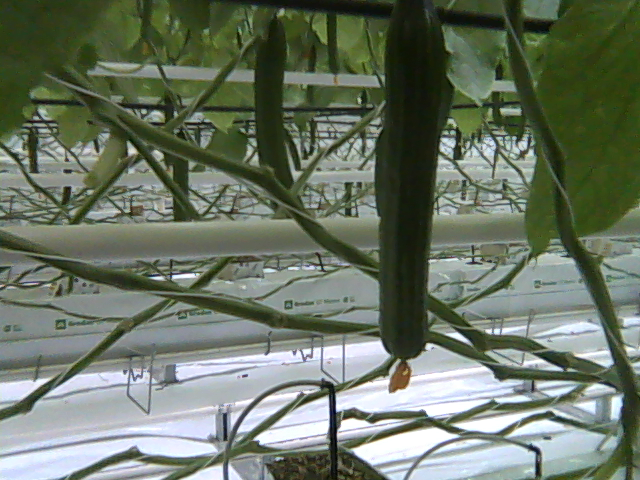concombre: (377, 1, 449, 395)
